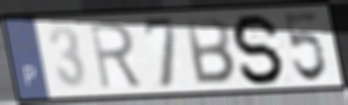3: (48, 23, 88, 91)
5: (282, 9, 329, 84)
7: (140, 16, 179, 92)
B: (183, 16, 238, 86)
R: (87, 20, 145, 92)
S: (230, 11, 287, 86)
